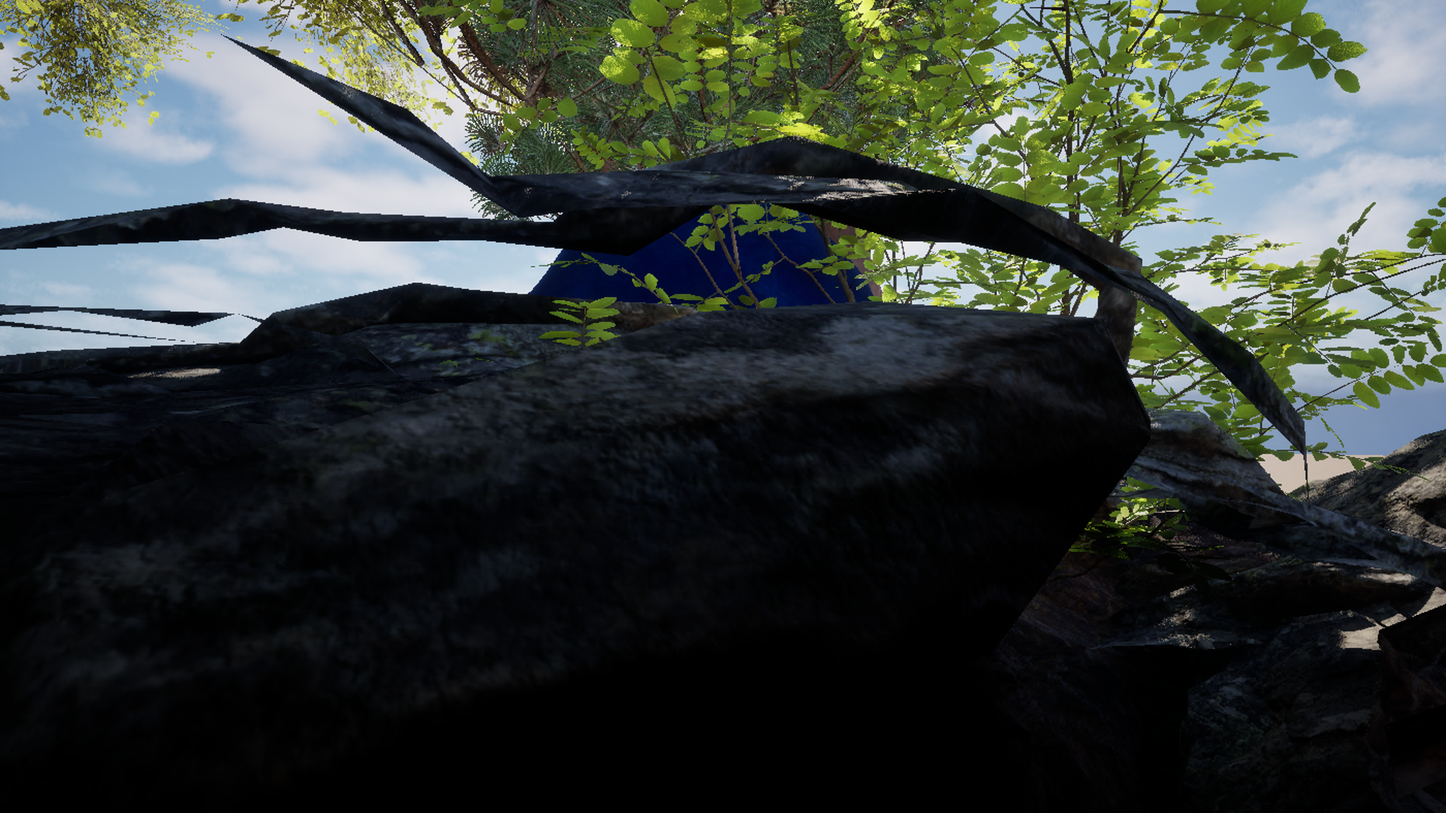Piplup: (174, 0, 1113, 813)
